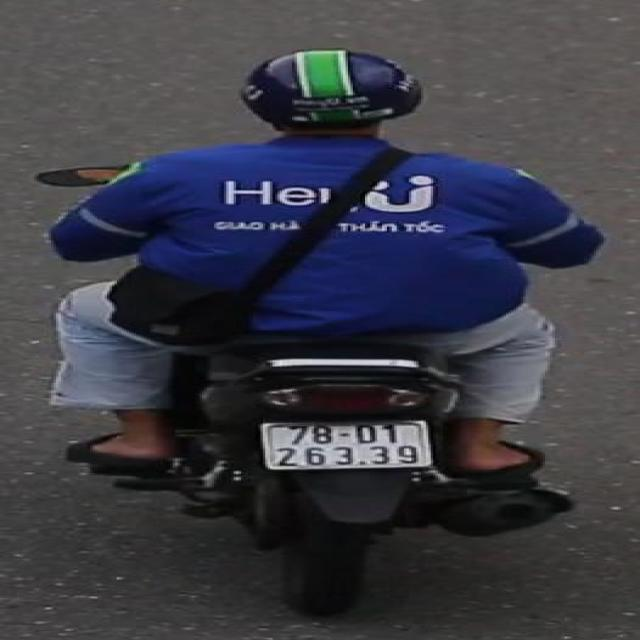LP: (241, 406, 450, 478)
helmet: (225, 45, 432, 158)
